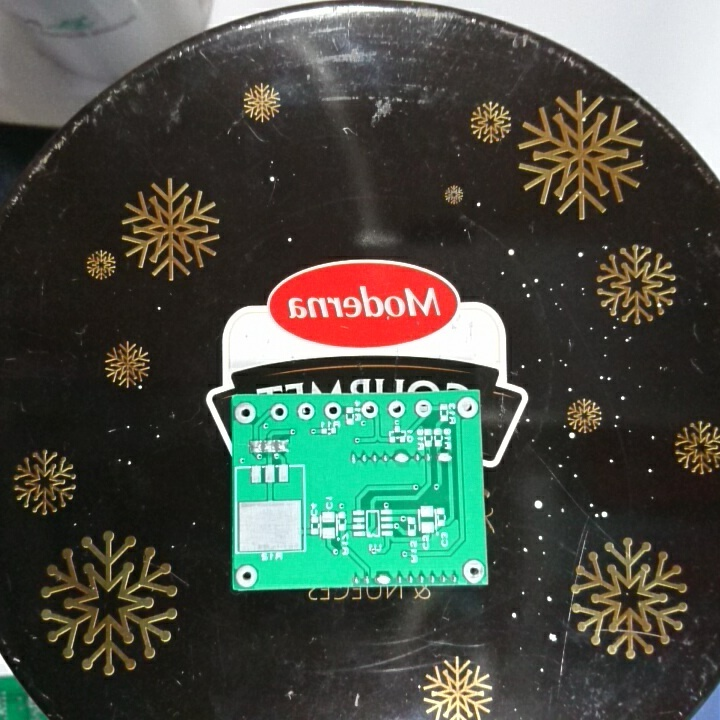F: (461, 557, 488, 584), (233, 400, 259, 426), (235, 562, 260, 589), (454, 394, 479, 419), (294, 399, 317, 423), (385, 398, 408, 420), (268, 400, 289, 424), (321, 399, 342, 422), (358, 400, 381, 420), (413, 398, 434, 419)
P: (392, 449, 412, 466), (435, 449, 454, 466), (374, 570, 391, 586)
